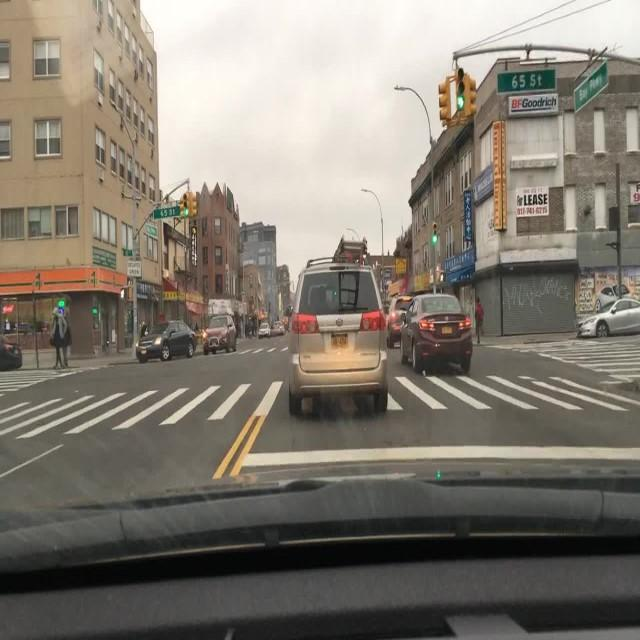normal: (265, 227, 494, 431)
